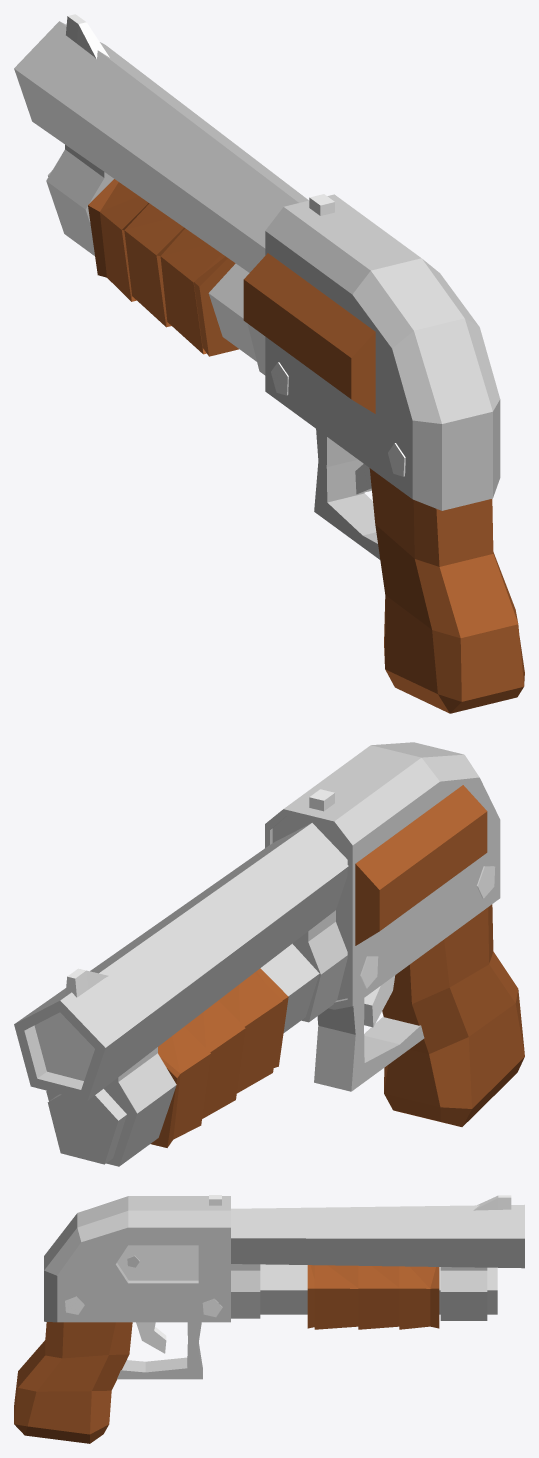
File: shotgun.glb
The picture shows the model from 3 angles, top to bottom: view 1: azimuth 30°, elevation 25°; view 2: azimuth 150°, elevation 25°; view 3: azimuth 270°, elevation 25°; orthographic projection. The views are drawn at different scales.
Visible parts, largest first — view 1: Shotgun; view 2: Shotgun; view 3: Shotgun.
Boxes of the visible parts, <box> form: Shotgun: <box>14,14,524,713</box>; Shotgun: <box>14,742,524,1166</box>; Shotgun: <box>14,1195,524,1443</box>.
Bounding box in the file's own units: 0.1415 × 0.4795 × 0.9345.
